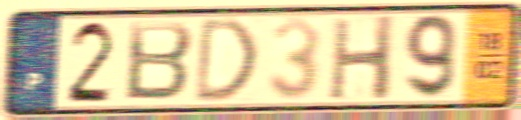2: (67, 20, 118, 106)
3: (265, 13, 324, 105)
9: (401, 13, 460, 102)
B: (122, 18, 195, 104)
D: (191, 14, 260, 107)
H: (326, 12, 399, 103)
